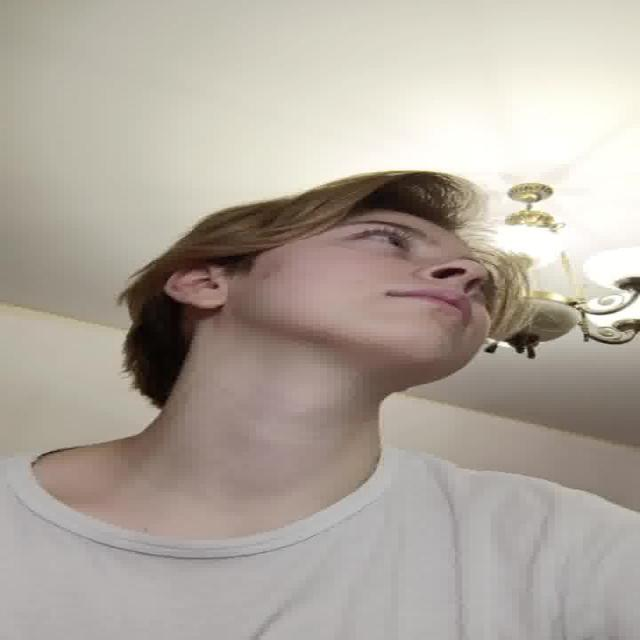earlobe: (189, 293, 228, 310)
eye: (348, 229, 414, 250)
nose: (419, 270, 479, 298)
wholeear: (164, 267, 229, 311)
